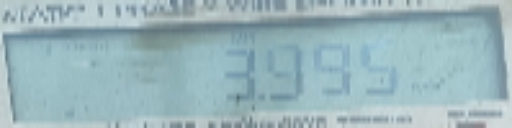3: (223, 41, 255, 102)
5: (357, 35, 398, 101)
9: (313, 35, 354, 101), (269, 38, 304, 99)
d: (257, 91, 266, 103)
